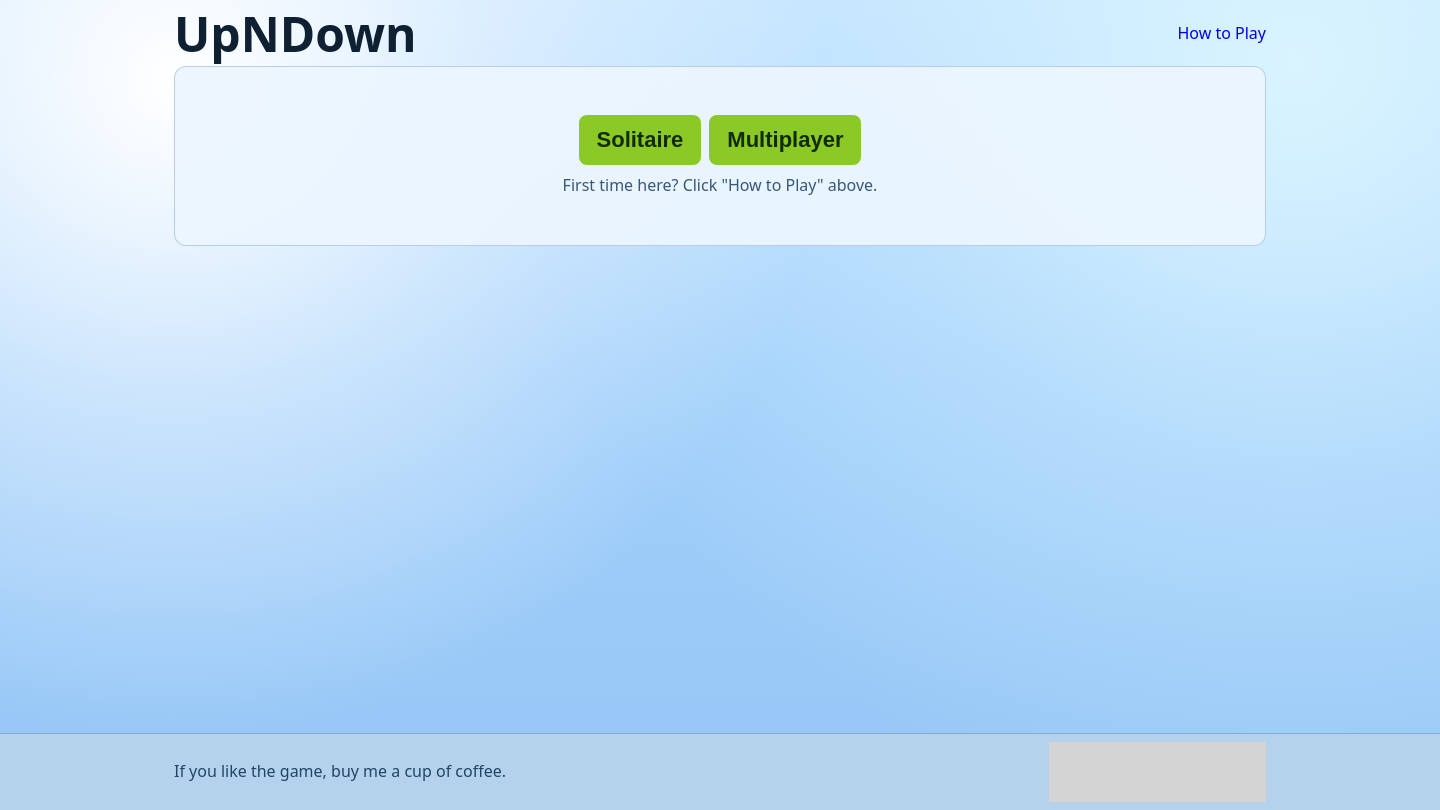
Test: multiplayer ack handling › times out create-game ack and clears pending action
Click the button with test id "mode-multiplayer" at {"x": 785, "y": 140}, box [709, 115, 861, 165]
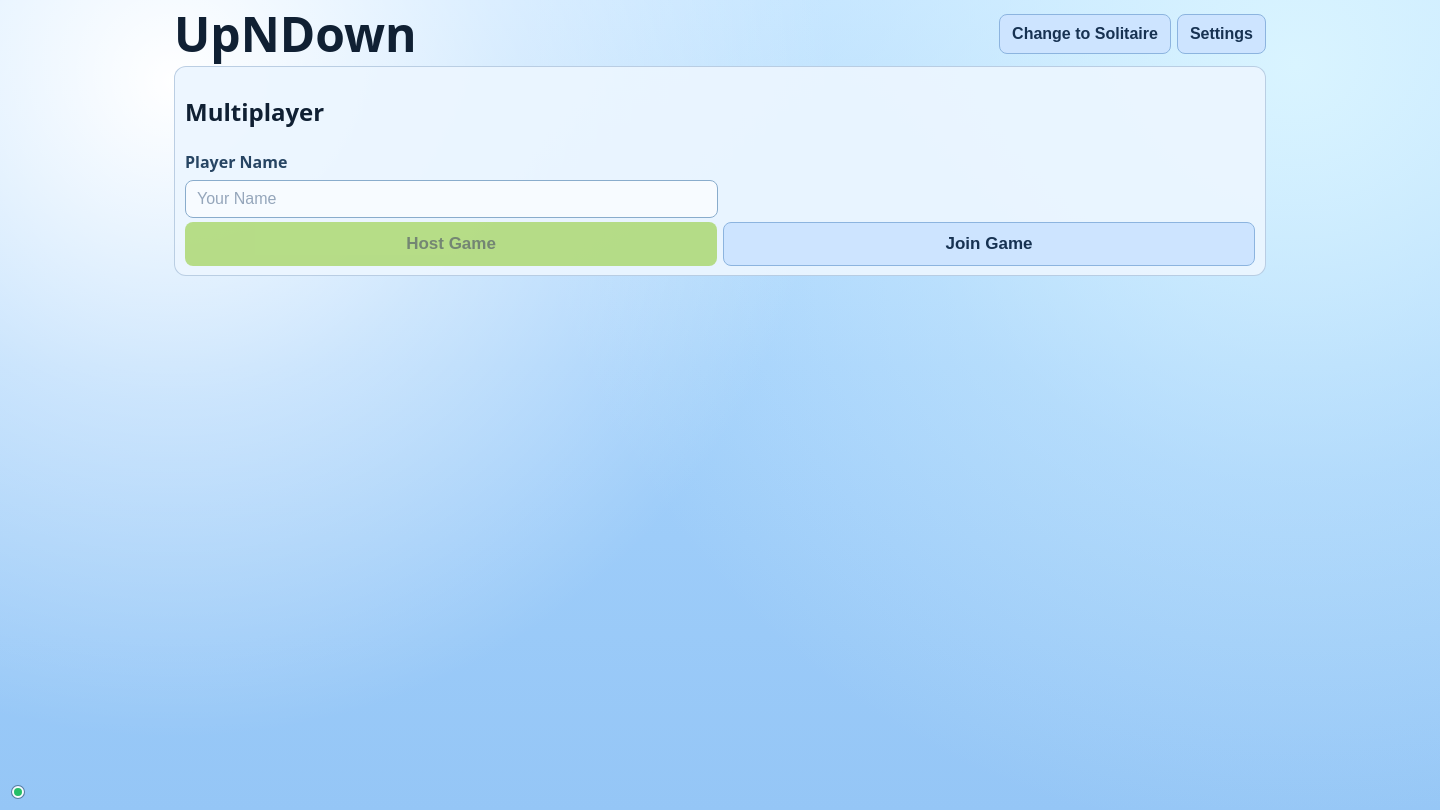
Type "Alex" into the field labelled "Player Name" at {"x": 452, "y": 199}, box [185, 180, 718, 218]
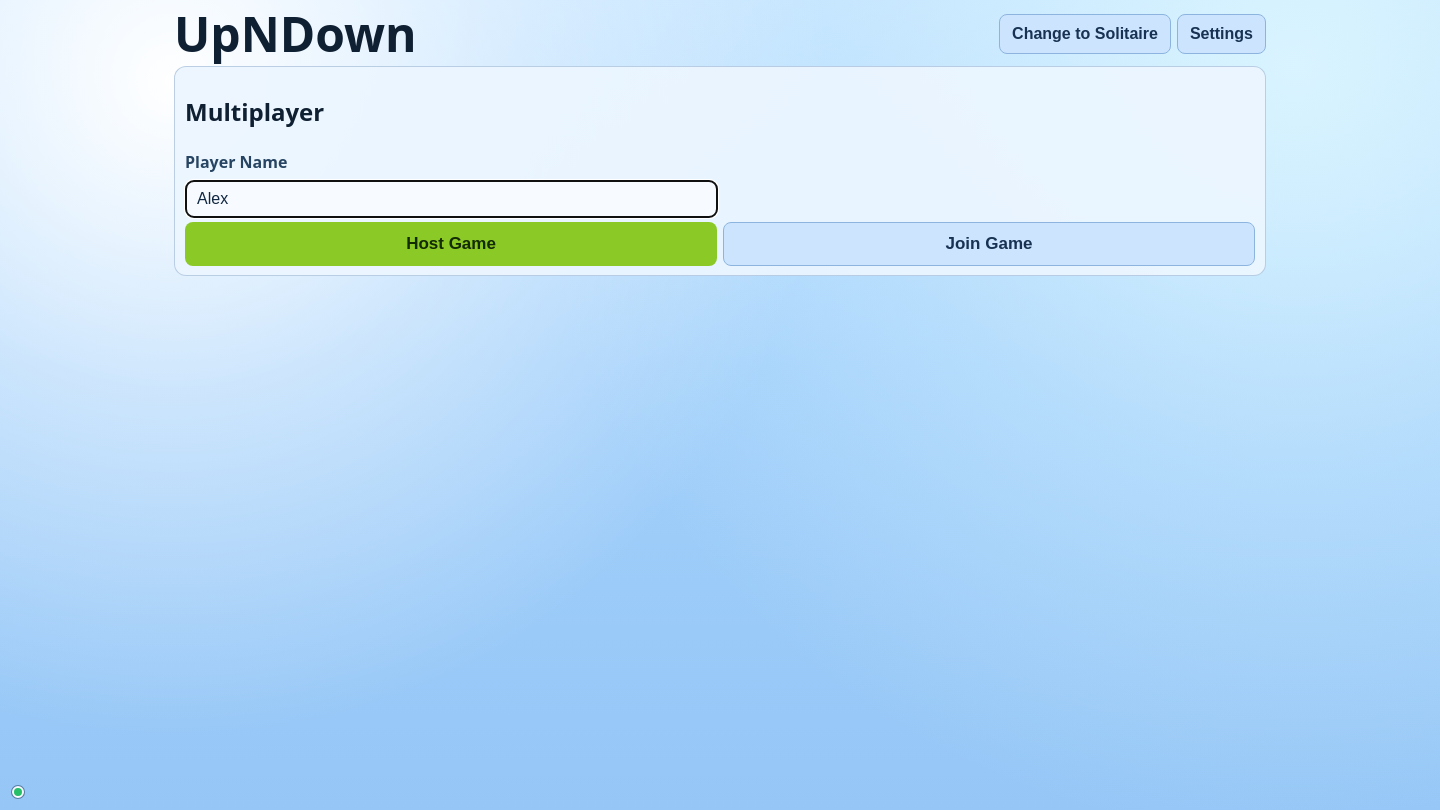
Click the button with test id "flow-host" at {"x": 451, "y": 244}, box [185, 222, 717, 266]
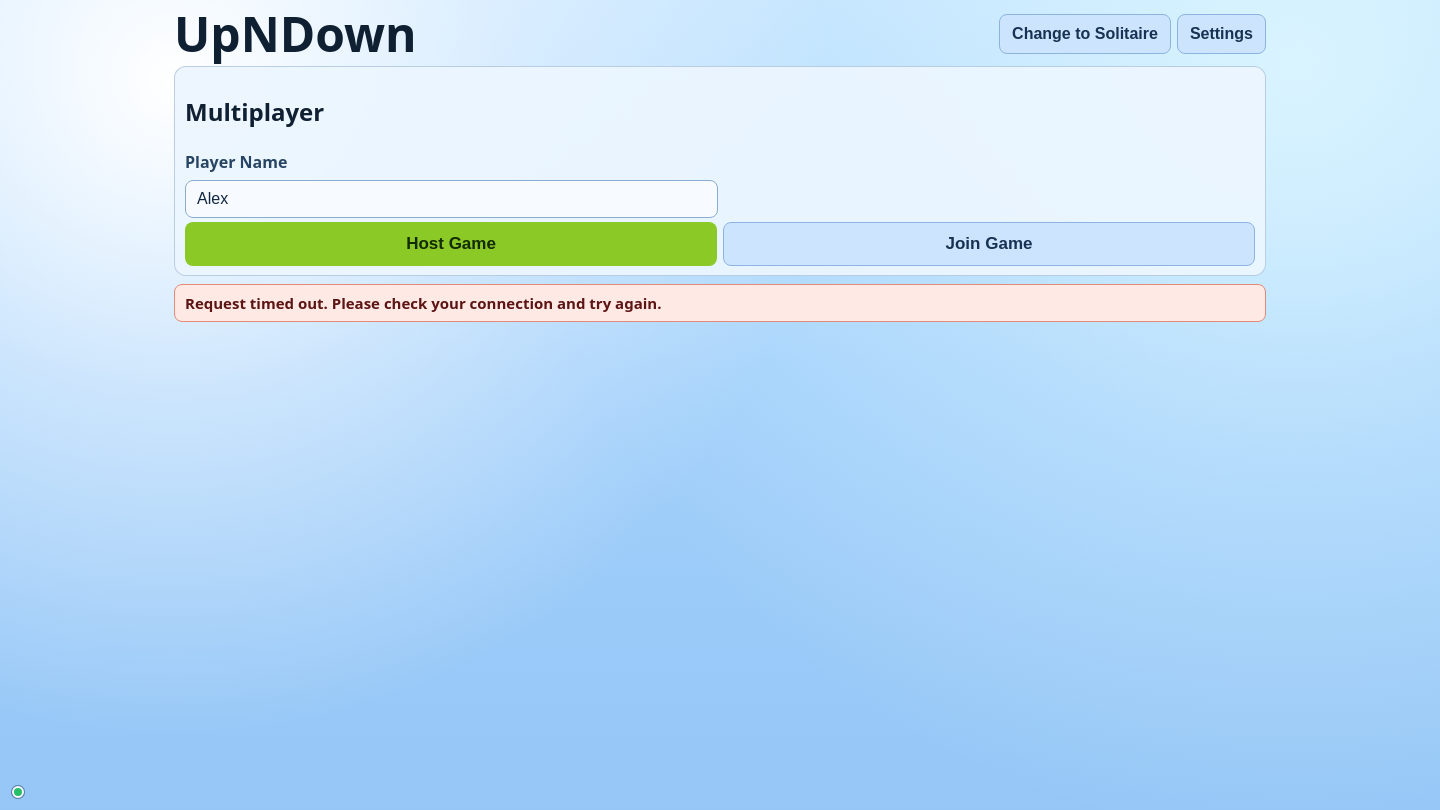
Expected: the button with test id "flow-host" reads "Host Game", [185, 222, 717, 266]
Expected: the message reads "Request timed out. Please check your connection and try again.", [185, 293, 661, 313]
